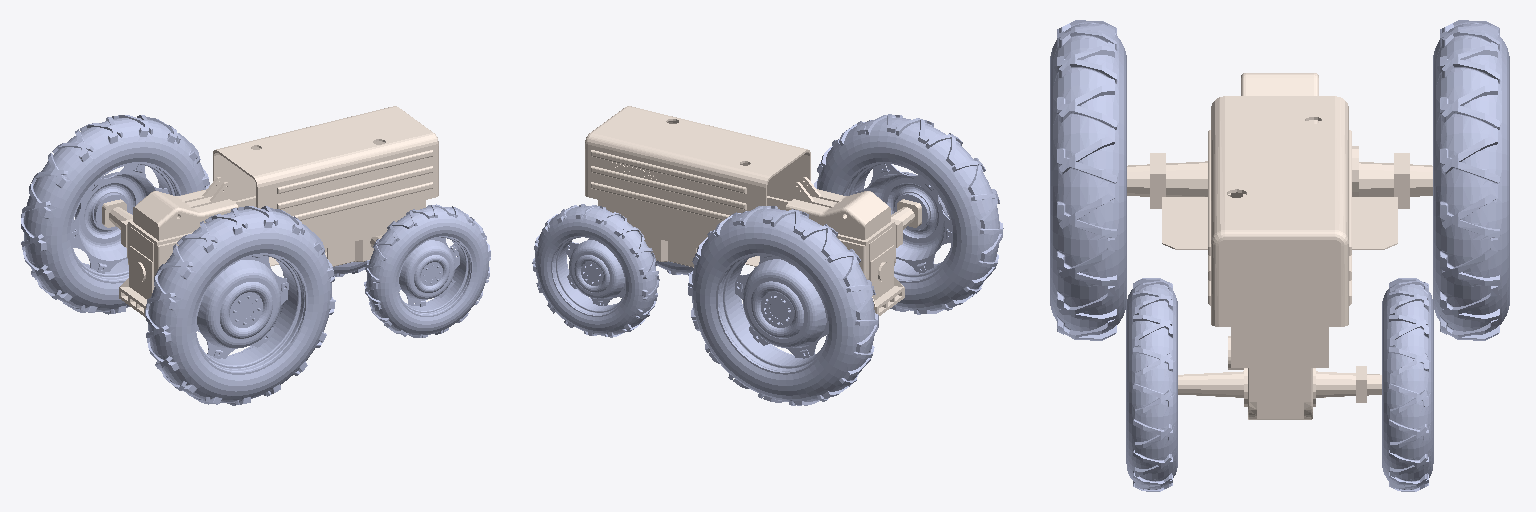
URDF robot description (Tractor):
<?xml version="1.0" encoding="utf-8"?>
<!-- This URDF was automatically created by SolidWorks to URDF Exporter! Originally created by [author] ([email redacted]) 
     Commit Version: 1.6.0-4-g7f85cfe  Build Version: 1.6.7995.38578
     For more information, please see http://wiki.ros.org/sw_urdf_exporter -->
<robot
  name="Tractor">
  <link
    name="base_link">
    <inertial>
      <origin
        xyz="0.171422023382714 0.0862248776292934 0.00157888042383488"
        rpy="0 0 0" />
      <mass
        value="3290" />
      <inertia
        ixx="1159.38852318991"
        ixy="0.431915046136476"
        ixz="-4.85112591473185"
        iyy="2316.72383623437"
        iyz="-0.776131398586647"
        izz="1715.72114839114" />
    </inertial>
    <visual>
      <origin
        xyz="0 0 0"
        rpy="0 0 0" />
      <geometry>
        <mesh
          filename="package://Tractor/meshes/base_link.STL" />
      </geometry>
      <material
        name="">
        <color
          rgba="1 0.949019607843137 0.909803921568627 1" />
      </material>
    </visual>
    <collision>
      <origin
        xyz="0 0 0"
        rpy="0 0 0" />
      <geometry>
        <mesh
          filename="package://Tractor/meshes/base_link.STL" />
      </geometry>
    </collision>
  </link>
  <link
    name="Front_L">
    <inertial>
      <origin
        xyz="0.17142 0.086225 0.0015789"
        rpy="0 0 0" />
      <mass
        value="3290" />
      <inertia
        ixx="1159.4"
        ixy="0.43192"
        ixz="-4.8511"
        iyy="2316.7"
        iyz="-0.77613"
        izz="1715.7" />
    </inertial>
    <visual>
      <origin
        xyz="0 0 0"
        rpy="0 0 0" />
      <geometry>
        <mesh
          filename="package://Tractor/meshes/Front_L.STL" />
      </geometry>
      <material
        name="">
        <color
          rgba="0.79216 0.81961 0.93333 1" />
      </material>
    </visual>
    <collision>
      <origin
        xyz="0 0 0"
        rpy="0 0 0" />
      <geometry>
        <mesh
          filename="package://Tractor/meshes/Front_L.STL" />
      </geometry>
    </collision>
  </link>
  <joint
    name="Front1"
    type="continuous">
    <origin
      xyz="0.70935 -0.51409 -0.13999"
      rpy="0 0 0" />
    <parent
      link="base_link" />
    <child
      link="Front_L" />
    <axis
      xyz="0 1 0" />
  </joint>
  <link
    name="Front_R">
    <inertial>
      <origin
        xyz="0.17142 0.086225 0.0015789"
        rpy="0 0 0" />
      <mass
        value="3290" />
      <inertia
        ixx="1159.4"
        ixy="0.43192"
        ixz="-4.8511"
        iyy="2316.7"
        iyz="-0.77613"
        izz="1715.7" />
    </inertial>
    <visual>
      <origin
        xyz="0 0 0"
        rpy="0 0 0" />
      <geometry>
        <mesh
          filename="package://Tractor/meshes/Front_R.STL" />
      </geometry>
      <material
        name="">
        <color
          rgba="0.79216 0.81961 0.93333 1" />
      </material>
    </visual>
    <collision>
      <origin
        xyz="0 0 0"
        rpy="0 0 0" />
      <geometry>
        <mesh
          filename="package://Tractor/meshes/Front_R.STL" />
      </geometry>
    </collision>
  </link>
  <joint
    name="Front2"
    type="continuous">
    <origin
      xyz="0.70935 0.51409 -0.13999"
      rpy="0 0 0" />
    <parent
      link="base_link" />
    <child
      link="Front_R" />
    <axis
      xyz="0 1 0" />
  </joint>
  <link
    name="Rear_L">
    <inertial>
      <origin
        xyz="0.17142 0.086225 0.0015789"
        rpy="0 0 0" />
      <mass
        value="3290" />
      <inertia
        ixx="1159.4"
        ixy="0.43192"
        ixz="-4.8511"
        iyy="2316.7"
        iyz="-0.77613"
        izz="1715.7" />
    </inertial>
    <visual>
      <origin
        xyz="0 0 0"
        rpy="0 0 0" />
      <geometry>
        <mesh
          filename="package://Tractor/meshes/Rear_L.STL" />
      </geometry>
      <material
        name="">
        <color
          rgba="0.79216 0.81961 0.93333 1" />
      </material>
    </visual>
    <collision>
      <origin
        xyz="0 0 0"
        rpy="0 0 0" />
      <geometry>
        <mesh
          filename="package://Tractor/meshes/Rear_L.STL" />
      </geometry>
    </collision>
  </link>
  <joint
    name="Rear1"
    type="continuous">
    <origin
      xyz="-0.65 -0.77 0.055"
      rpy="0 0 0" />
    <parent
      link="base_link" />
    <child
      link="Rear_L" />
    <axis
      xyz="0 1 0" />
  </joint>
  <link
    name="Rear_R">
    <inertial>
      <origin
        xyz="0.17142 0.086225 0.0015789"
        rpy="0 0 0" />
      <mass
        value="3290" />
      <inertia
        ixx="1159.4"
        ixy="0.43192"
        ixz="-4.8511"
        iyy="2316.7"
        iyz="-0.77613"
        izz="1715.7" />
    </inertial>
    <visual>
      <origin
        xyz="0 0 0"
        rpy="0 0 0" />
      <geometry>
        <mesh
          filename="package://Tractor/meshes/Rear_R.STL" />
      </geometry>
      <material
        name="">
        <color
          rgba="0.79216 0.81961 0.93333 1" />
      </material>
    </visual>
    <collision>
      <origin
        xyz="0 0 0"
        rpy="0 0 0" />
      <geometry>
        <mesh
          filename="package://Tractor/meshes/Rear_R.STL" />
      </geometry>
    </collision>
  </link>
  <joint
    name="Rear2"
    type="continuous">
    <origin
      xyz="-0.65 0.77 0.055"
      rpy="0 0 0" />
    <parent
      link="base_link" />
    <child
      link="Rear_R" />
    <axis
      xyz="0 1 0" />
  </joint>

  <gazebo>
    <plugin name="skid_steer_drive_controller" filename="libgazebo_ros_skid_steer_drive.so">
      <updateRate>100.0</updateRate>
      <robotNamespace>/</robotNamespace>
      <leftFrontJoint>Front1</leftFrontJoint>
      <rightFrontJoint>Front2</rightFrontJoint>
      <leftRearJoint>Rear1</leftRearJoint>
      <rightRearJoint>Rear2</rightRearJoint>
      <wheelSeparation>0.4</wheelSeparation>
      <wheelDiameter>0.215</wheelDiameter>
      <robotBaseFrame>base_link</robotBaseFrame>
      <torque>20</torque>
      <topicName>cmd_vel</topicName>
      <broadcastTF>false</broadcastTF>
    </plugin>
  </gazebo>
</robot>

--- What the picture shows (computed from the rendered views, not written in the file) ---
Views: 3 orthographic renders of the robot side by side, from view 1: azimuth 30°, elevation 25°; view 2: azimuth 150°, elevation 25°; view 3: azimuth 270°, elevation 25°.
Model Tractor with 5 links and 4 joints (4 continuous), rooted at base_link, posed every joint at zero.
Visible links, largest first — view 1: base_link, Rear_L, Rear_R, Front_L; view 2: base_link, Rear_R, Rear_L, Front_R; view 3: base_link, Rear_L, Rear_R, Front_R, Front_L.
Link boxes in pixels (<box>): base_link: <box>102,106,438,317</box>; Rear_L: <box>145,206,335,405</box>; Rear_R: <box>21,115,209,314</box>; Front_L: <box>364,204,490,337</box>; base_link: <box>585,106,921,315</box>; Rear_R: <box>688,206,878,405</box>; Rear_L: <box>814,114,1003,314</box>; Front_R: <box>532,204,659,337</box>; base_link: <box>1127,73,1432,419</box>; Rear_L: <box>1050,20,1126,340</box>; Rear_R: <box>1433,20,1509,340</box>; Front_R: <box>1382,278,1433,491</box>; Front_L: <box>1126,278,1177,491</box>.
Bounding box of the posed robot: 2.34 × 1.69 × 1.18 m (x, y, z).
5 mesh visuals loaded from 5 distinct referenced files (5 binary STL).